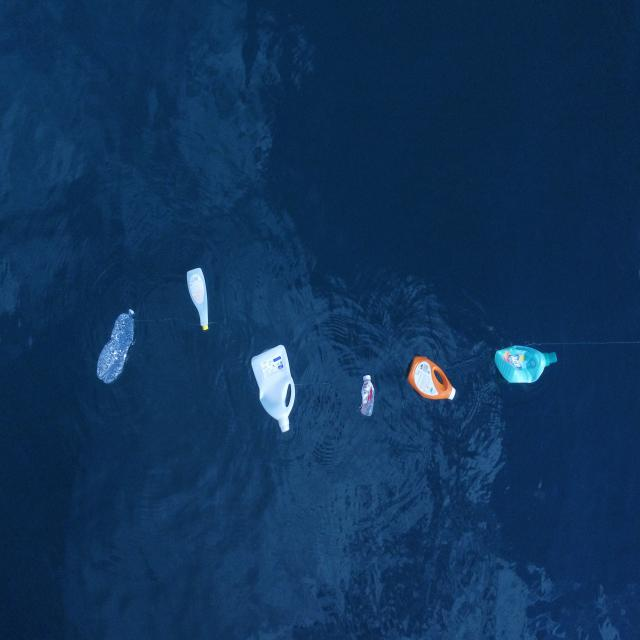bottles: (250, 344, 296, 433), (96, 308, 136, 384), (494, 346, 558, 384), (407, 355, 457, 402), (187, 268, 210, 331), (359, 373, 375, 418)
